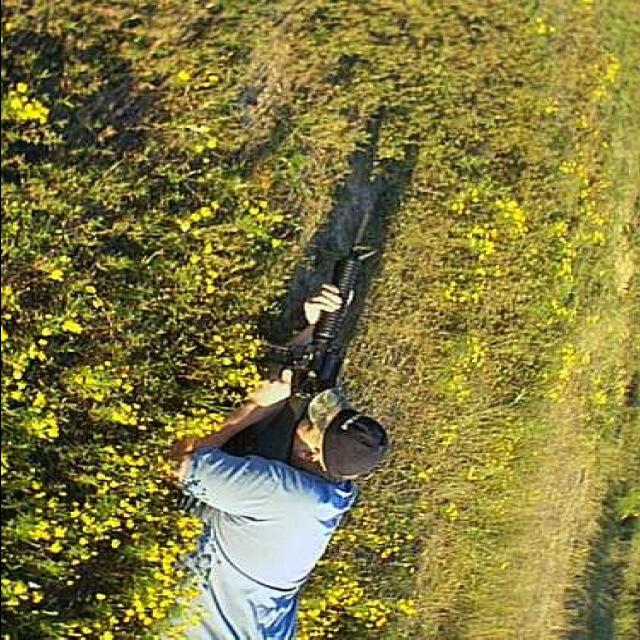heavyweapon: (192, 203, 378, 471)
